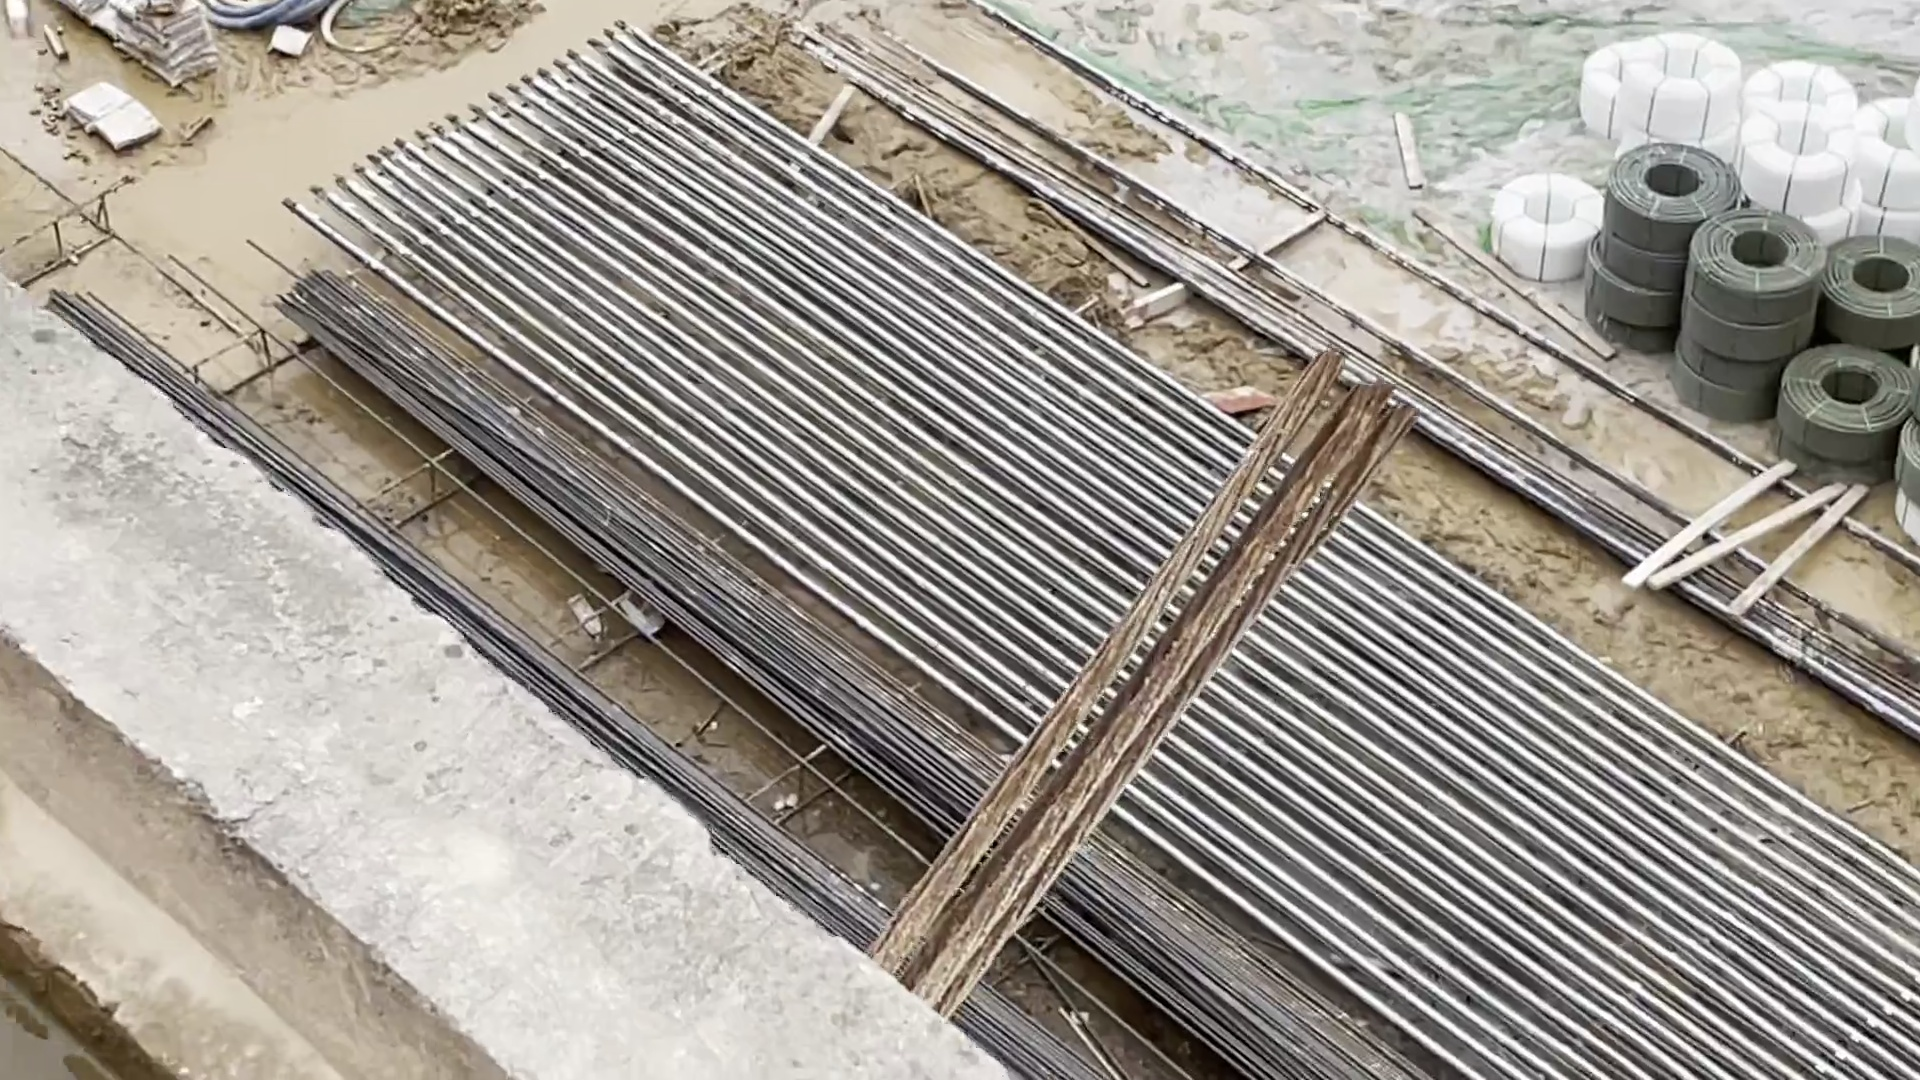rebar: (42, 200, 855, 868), (829, 735, 1382, 1080)
